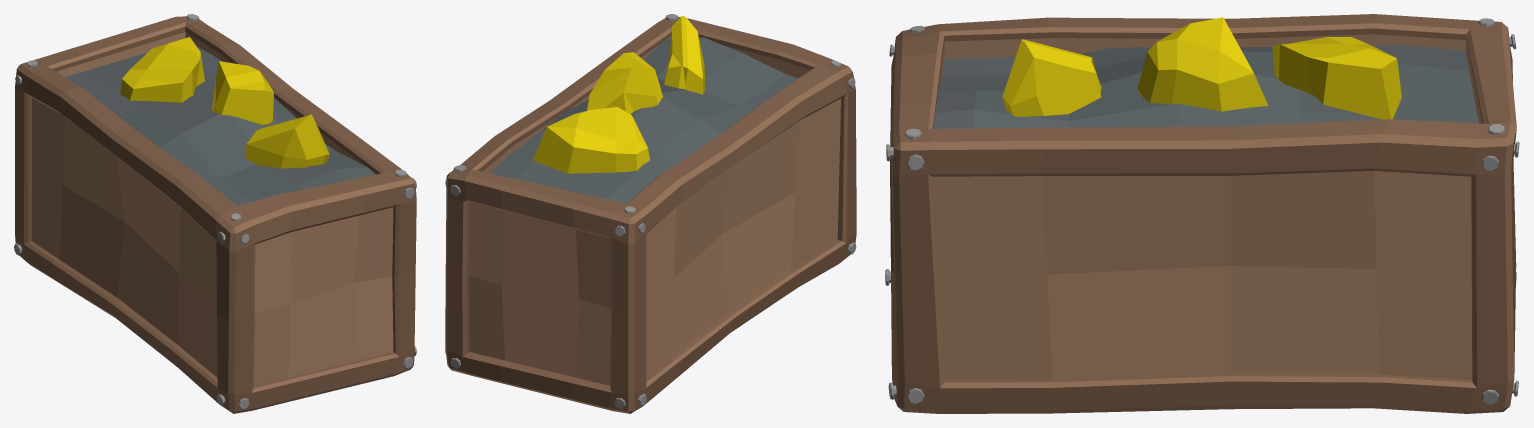
File: Crate_Long_Gold.fbx
The picture shows the model from 3 angles, left to right: view 1: azimuth 30°, elevation 25°; view 2: azimuth 150°, elevation 25°; view 3: azimuth 270°, elevation 25°; orthographic projection. The views are drawn at different scales.
Visible parts, largest first — view 1: Crate_Long_Gold, Gold; view 2: Crate_Long_Gold, Gold; view 3: Crate_Long_Gold, Gold.
Part boxes in pixels (x1,y1,x2,y2): Crate_Long_Gold: (14, 14, 416, 413); Gold: (120, 37, 329, 168); Crate_Long_Gold: (445, 14, 856, 413); Gold: (533, 15, 705, 173); Crate_Long_Gold: (885, 14, 1519, 413); Gold: (1002, 17, 1401, 119).
Size of the model in its own units: 71.1 by 85.59 by 142.
